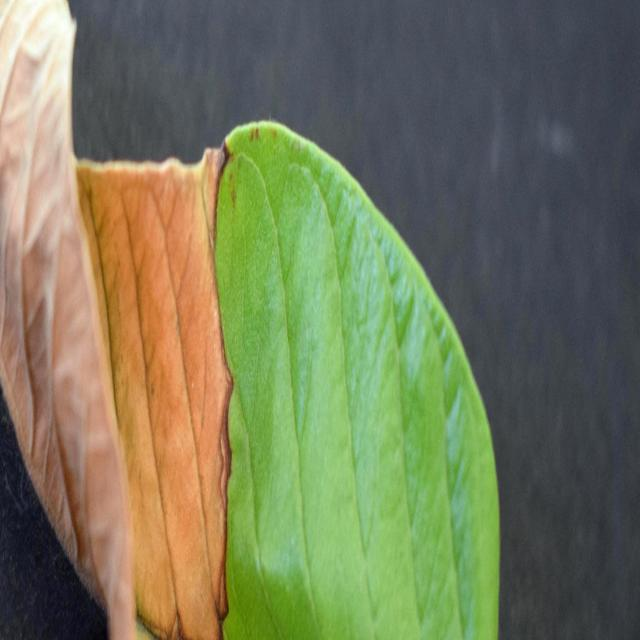Mummification: (0, 0, 499, 639)
